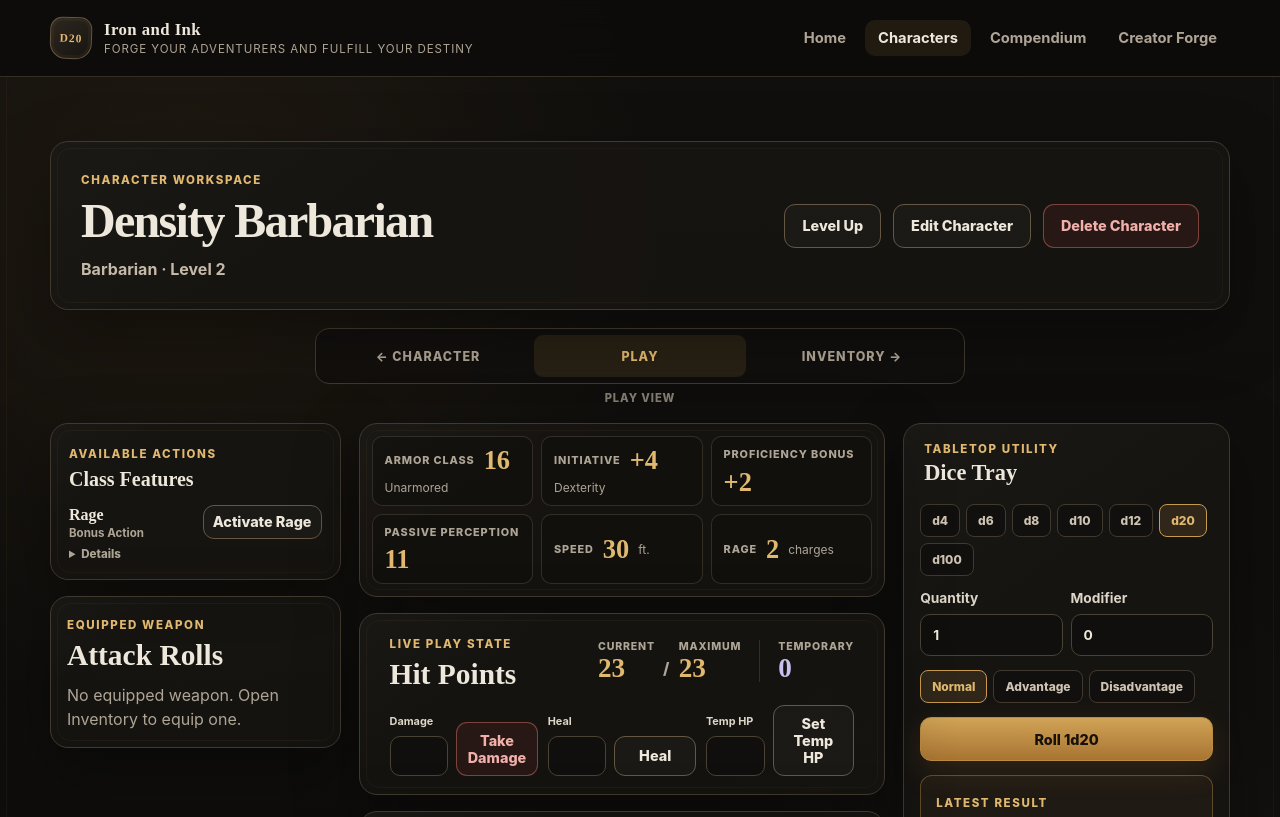
Test case: PLAY lower-content density and disclosure › A-F separates Rage feature action, resource status, and active-effect state while keeping Details non-persistent
Check: the element "Class Features" is shown, box [50,423,340,580]
Check: the element "Rage" is shown, box [69,505,322,561]
Click the heading "Details".
click(101, 554)  # box [81,547,121,561]
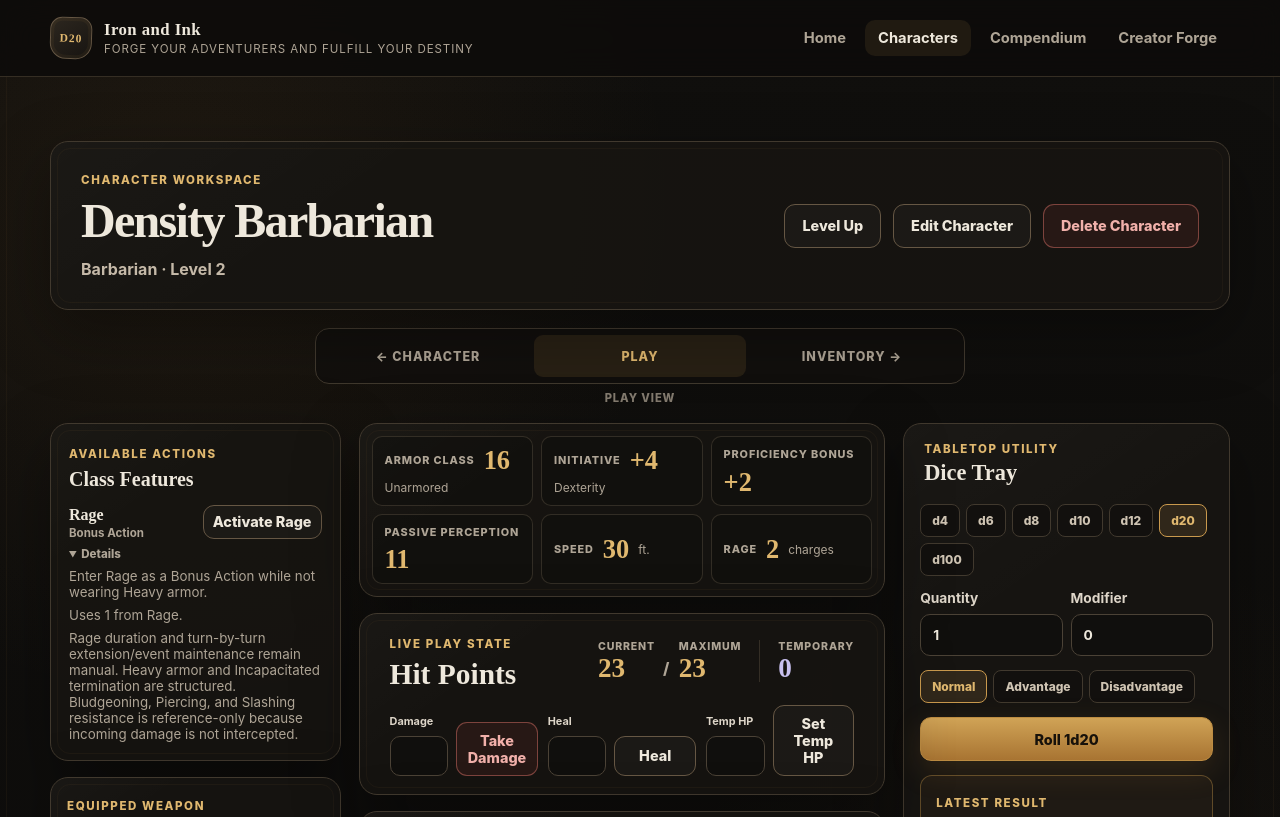
Check: the text "Enter Rage as a Bonus Action while not wearing Heavy armor." is shown, box [69,568,322,600]
Check: the text "Rage duration and turn-by-turn extension/event maintenance remain manual. Heavy armor and Incapacitated termination are " is shown, box [69,630,320,742]
Click the heading "Details".
click(101, 554)  # box [81,547,121,561]
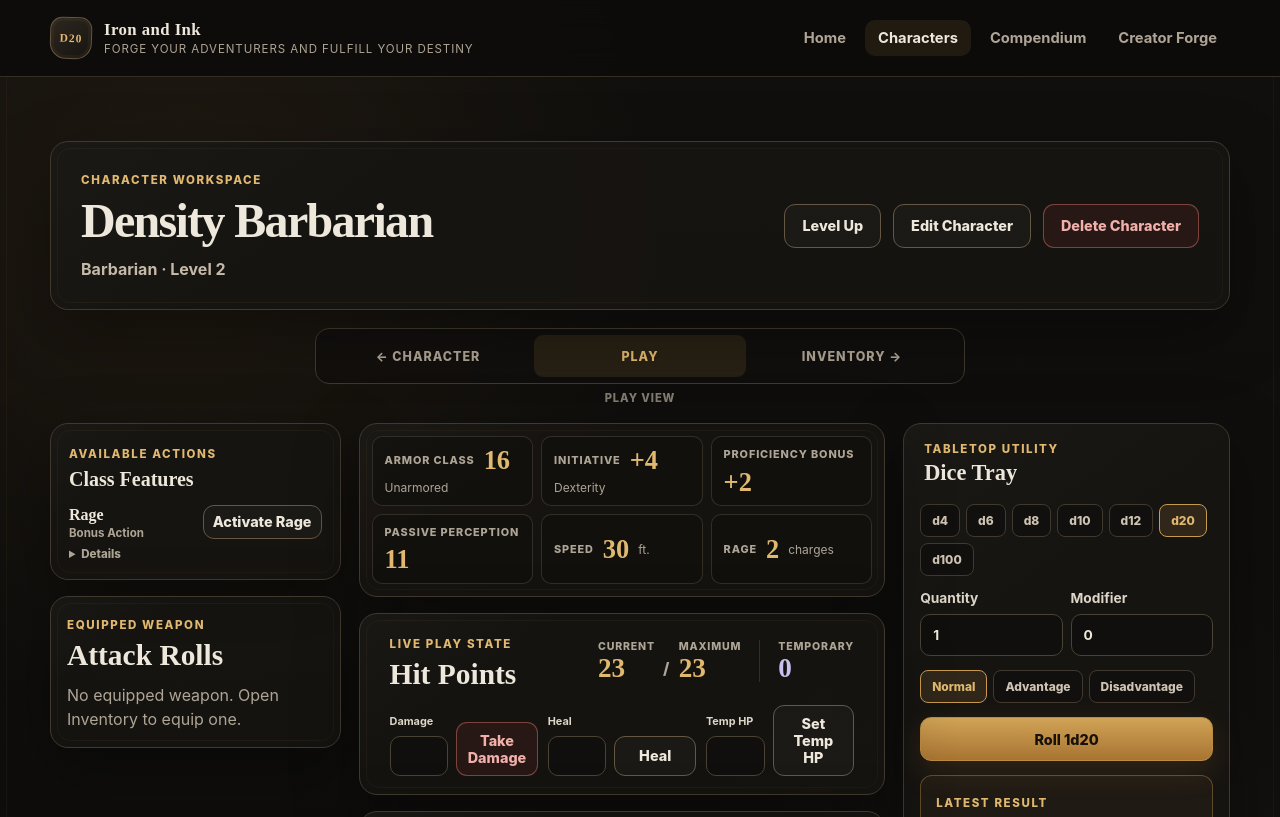
Check: the text "Enter Rage as a Bonus Action while not wearing Heavy armor." is gone
Click the button "Activate Rage".
click(262, 522)  # box [203,505,322,539]
(page scrolled)
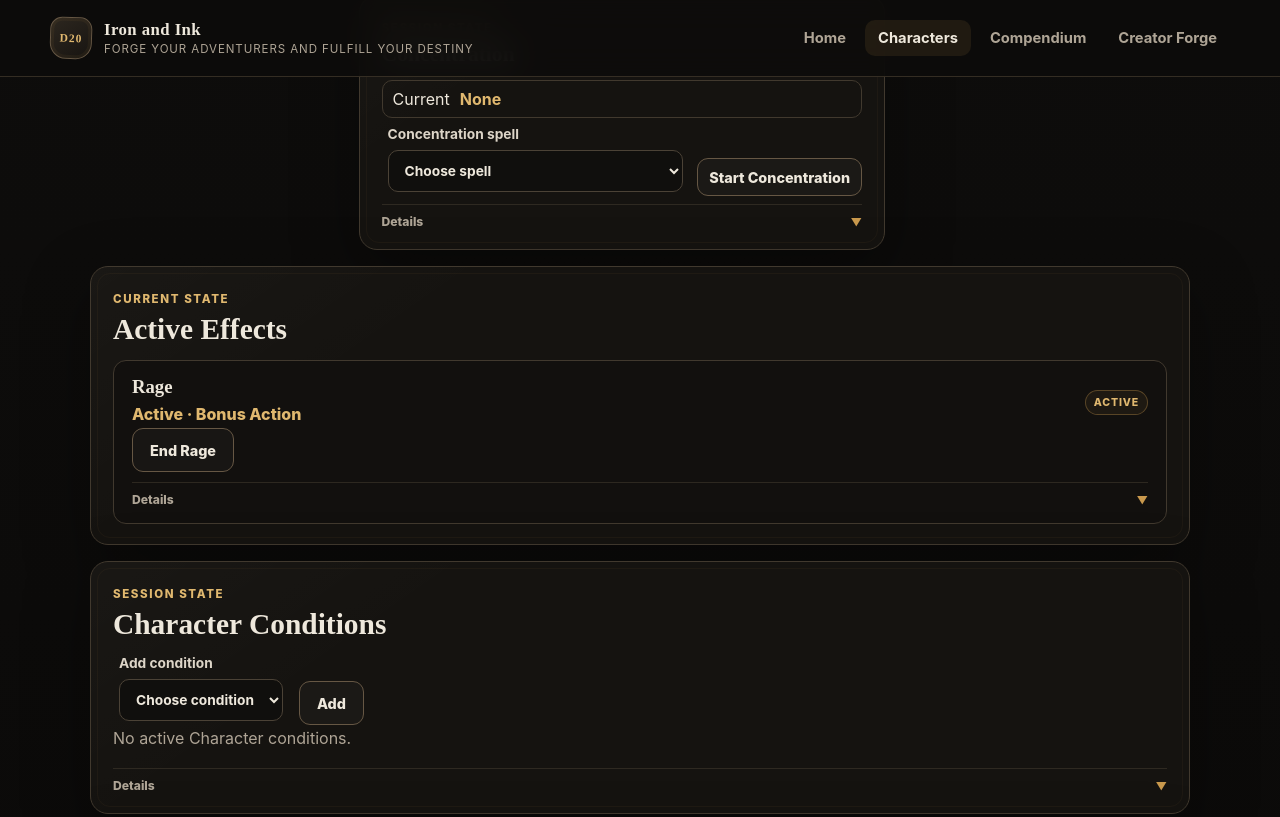
Check: the element "Rage" is shown, box [113,360,1167,524]
Check: the text "Active · Bonus Action" is shown, box [132,401,301,428]
Check: the text "ACTIVE" is shown, box [1085,390,1148,415]
